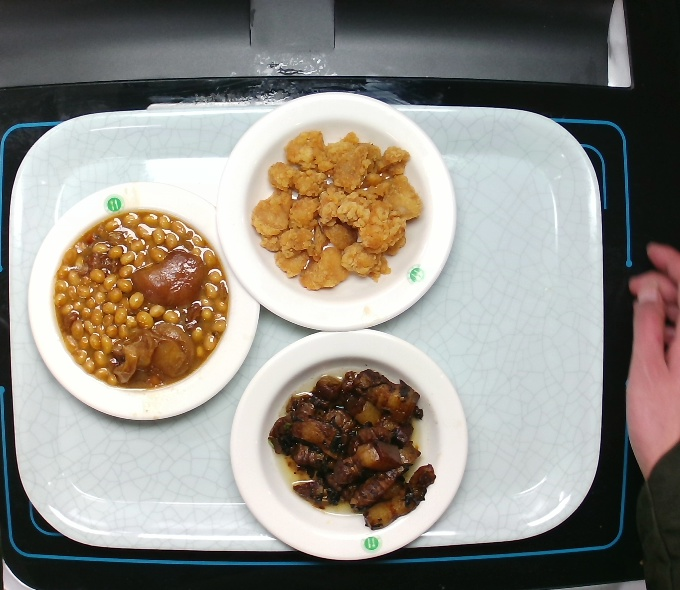wcq-GanCaiRou: (264, 365, 440, 533)
wcq-HuangDouZhuJiao: (46, 206, 234, 394)
wcq-JiMiHua: (246, 124, 428, 294)
